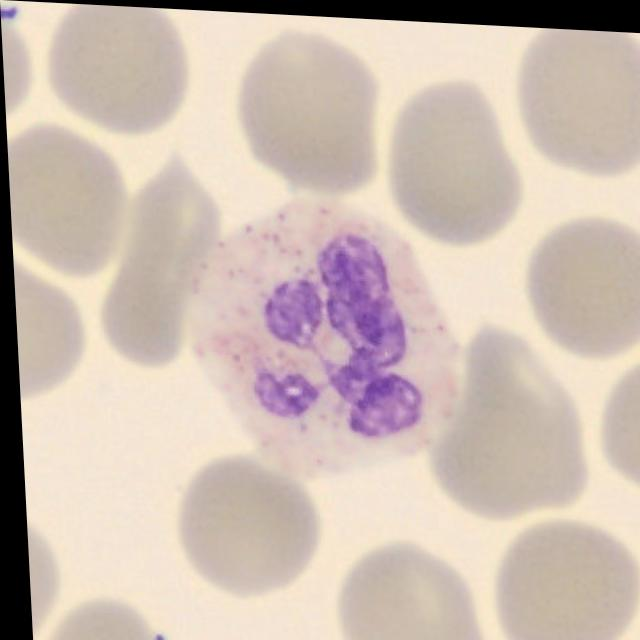Neutrofilo segmentado: (182, 190, 461, 477)
